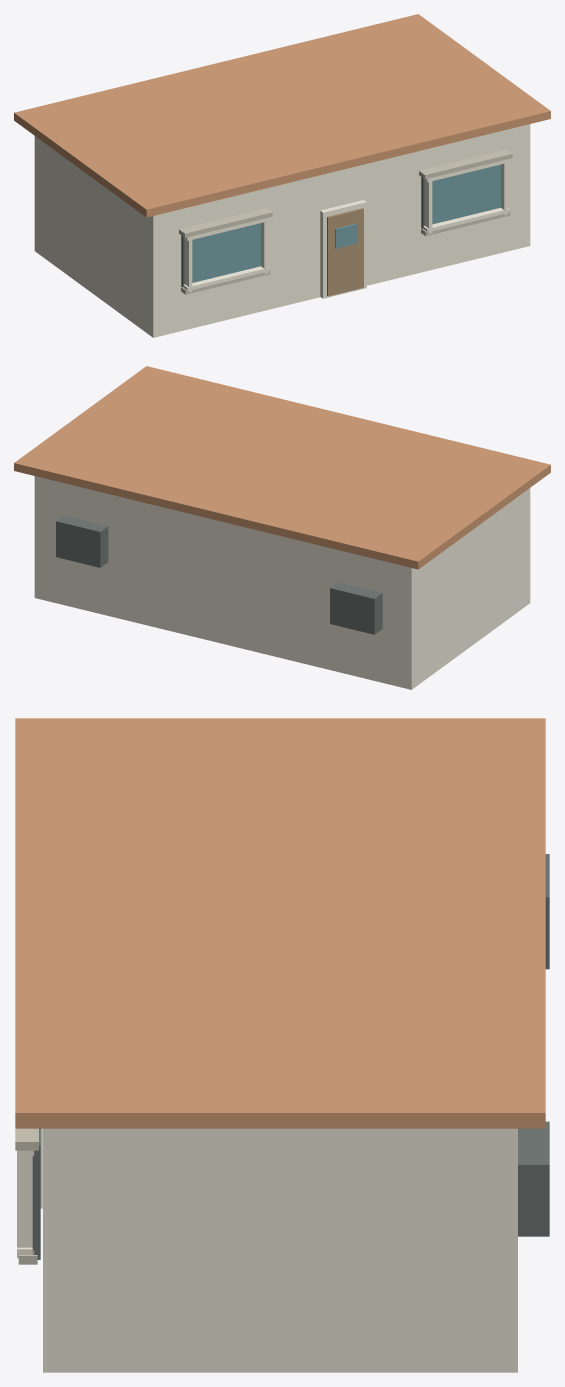
File: quarry-office.glb
3 views of the same model, one above another, from view 1: azimuth 30°, elevation 25°; view 2: azimuth 150°, elevation 25°; view 3: azimuth 270°, elevation 25° (orthographic). The views are drawn at different scales.
Size of the model in its own units: 11.8 by 3.81 by 6.75.
